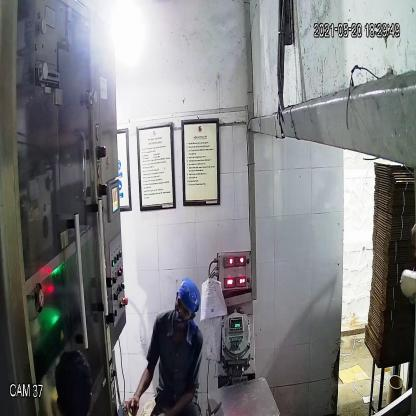no_goggles: (171, 296, 193, 318)
